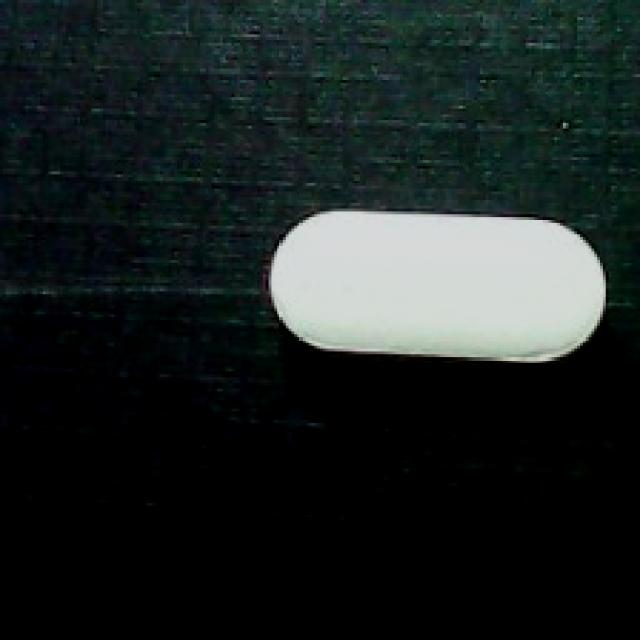no-defect: (266, 200, 614, 377)
